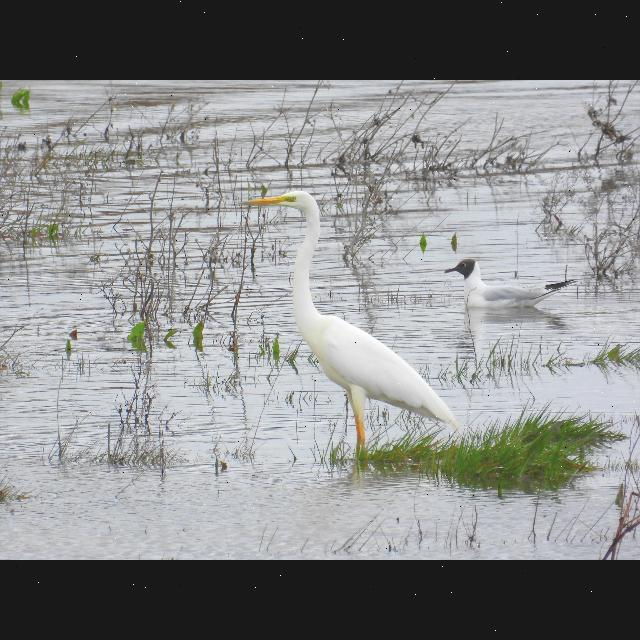egret: (230, 182, 456, 472)
